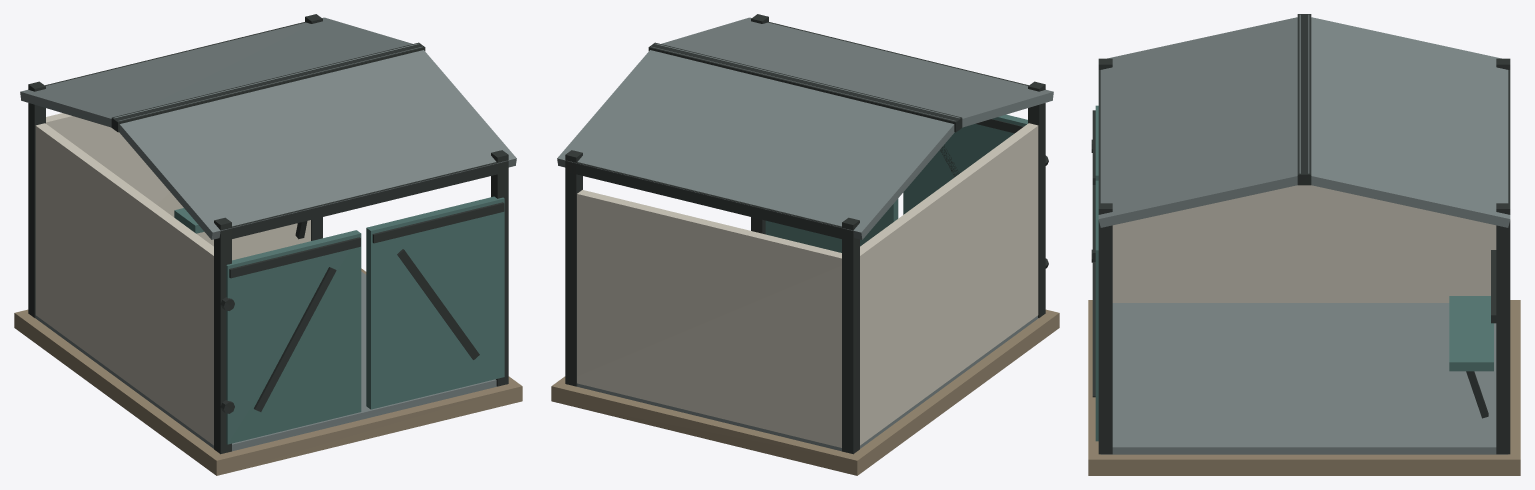
File: tractor-shed.source.glb
3 views of the same model, side by side, from view 1: azimuth 30°, elevation 25°; view 2: azimuth 150°, elevation 25°; view 3: azimuth 270°, elevation 25° (orthographic). The views are drawn at different scales.
Visible parts, largest first — view 1: tractor-shed-front-roof-plane-mesh, tractor-shed-left-windbreak-wall-mesh, tractor-shed-right-gate-panel-mesh, tractor-shed-left-gate-panel-mesh, tractor-shed-rear-roof-plane-mesh, tractor-shed-stone-foundation-curb-mesh, tractor-shed-rear-windbreak-wall-mesh, tractor-shed-interior-floor-mesh, tractor-shed-front-top-beam-mesh, tractor-shed-frame-post--1.72-2-mesh, tractor-shed-roof-ridge-mesh, tractor-shed-frame-post--1.72--2-mesh (+5 smaller); view 2: tractor-shed-rear-windbreak-wall-mesh, tractor-shed-rear-roof-plane-mesh, tractor-shed-left-windbreak-wall-mesh, tractor-shed-front-roof-plane-mesh, tractor-shed-stone-foundation-curb-mesh, tractor-shed-frame-post--1.72--2-mesh, tractor-shed-left-gate-panel-mesh, tractor-shed-rear-top-beam-mesh, tractor-shed-frame-post-1.72--2-mesh, tractor-shed-roof-ridge-mesh, tractor-shed-frame-post--1.72-2-mesh, tractor-shed-interior-floor-mesh (+1 smaller); view 3: tractor-shed-interior-floor-mesh, tractor-shed-left-windbreak-wall-mesh, tractor-shed-rear-roof-plane-mesh, tractor-shed-front-roof-plane-mesh, tractor-shed-stone-foundation-curb-mesh, tractor-shed-frame-post-1.72-2-mesh, tractor-shed-frame-post-1.72--2-mesh, tractor-shed-rear-service-shelf-board-mesh, tractor-shed-roof-ridge-mesh, tractor-shed-right-gate-panel-mesh, tractor-shed-right-gate-diagonal-mesh.
Boxes of the visible parts, bbox=[...] form: tractor-shed-front-roof-plane-mesh: bbox=[114, 43, 516, 239]; tractor-shed-left-windbreak-wall-mesh: bbox=[35, 123, 213, 445]; tractor-shed-right-gate-panel-mesh: bbox=[366, 196, 504, 409]; tractor-shed-left-gate-panel-mesh: bbox=[226, 230, 361, 444]; tractor-shed-rear-roof-plane-mesh: bbox=[20, 17, 422, 127]; tractor-shed-stone-foundation-curb-mesh: bbox=[14, 268, 522, 475]; tractor-shed-rear-windbreak-wall-mesh: bbox=[46, 113, 310, 260]; tractor-shed-interior-floor-mesh: bbox=[35, 271, 496, 451]; tractor-shed-front-top-beam-mesh: bbox=[224, 160, 508, 240]; tractor-shed-frame-post--1.72-2-mesh: bbox=[214, 217, 231, 454]; tractor-shed-roof-ridge-mesh: bbox=[111, 42, 425, 132]; tractor-shed-frame-post--1.72--2-mesh: bbox=[28, 81, 45, 317]; tractor-shed-rear-windbreak-wall-mesh: bbox=[577, 190, 841, 447]; tractor-shed-rear-roof-plane-mesh: bbox=[557, 43, 959, 239]; tractor-shed-left-windbreak-wall-mesh: bbox=[860, 123, 1038, 445]; tractor-shed-front-roof-plane-mesh: bbox=[651, 17, 1053, 127]; tractor-shed-stone-foundation-curb-mesh: bbox=[551, 309, 1059, 475]; tractor-shed-frame-post--1.72--2-mesh: bbox=[842, 217, 859, 454]; tractor-shed-left-gate-panel-mesh: bbox=[903, 114, 1027, 214]; tractor-shed-rear-top-beam-mesh: bbox=[565, 160, 847, 239]; tractor-shed-frame-post-1.72--2-mesh: bbox=[565, 150, 582, 386]; tractor-shed-roof-ridge-mesh: bbox=[648, 42, 962, 132]; tractor-shed-frame-post--1.72-2-mesh: bbox=[1028, 81, 1045, 317]; tractor-shed-interior-floor-mesh: bbox=[577, 315, 1038, 451]; tractor-shed-interior-floor-mesh: bbox=[1101, 303, 1507, 454]; tractor-shed-left-windbreak-wall-mesh: bbox=[1112, 185, 1496, 302]; tractor-shed-rear-roof-plane-mesh: bbox=[1299, 14, 1510, 227]; tractor-shed-front-roof-plane-mesh: bbox=[1098, 14, 1309, 227]; tractor-shed-stone-foundation-curb-mesh: bbox=[1088, 300, 1520, 475]; tractor-shed-frame-post-1.72-2-mesh: bbox=[1098, 203, 1112, 454]; tractor-shed-frame-post-1.72--2-mesh: bbox=[1496, 203, 1510, 454]; tractor-shed-rear-service-shelf-board-mesh: bbox=[1449, 296, 1493, 371]; tractor-shed-roof-ridge-mesh: bbox=[1297, 14, 1311, 185]; tractor-shed-right-gate-panel-mesh: bbox=[1095, 180, 1098, 441]; tractor-shed-right-gate-diagonal-mesh: bbox=[1092, 262, 1095, 397].
Size of the model in its own units: 3.82 by 3.35 by 4.35.
